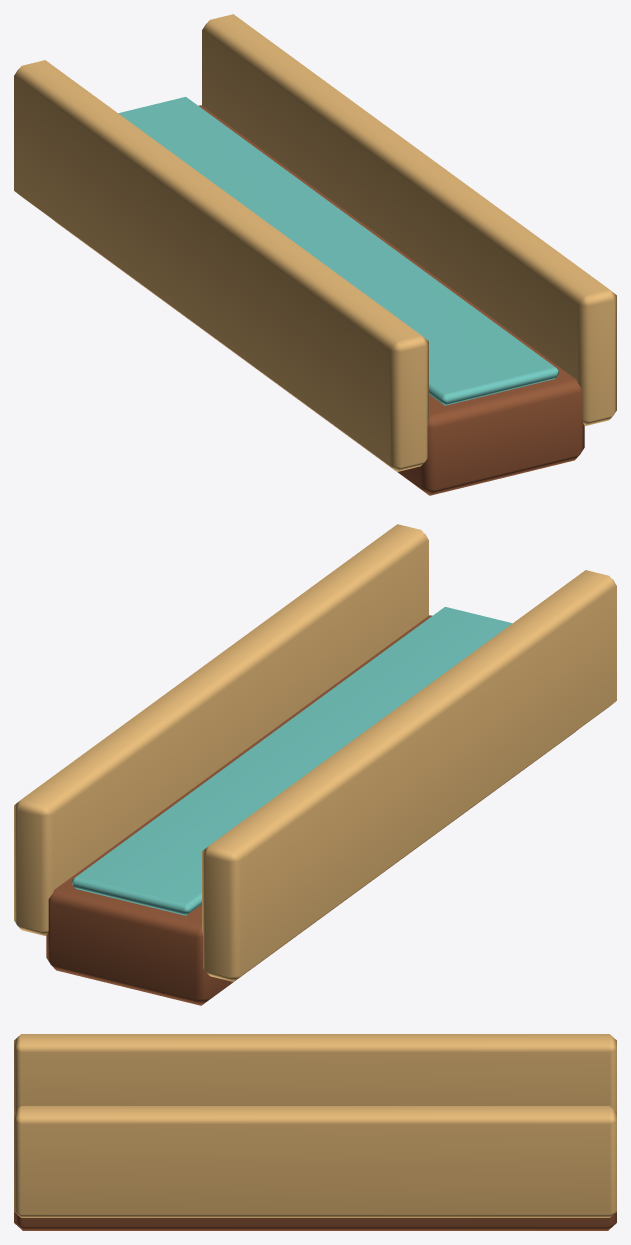
Rendered from channel.glb.
3 renders of one model, top to bottom at view 1: azimuth 30°, elevation 25°; view 2: azimuth 150°, elevation 25°; view 3: azimuth 270°, elevation 25°, orthographic. The views are drawn at different scales.
Visible parts, largest first — view 1: Wall, Wall.001, Water, Trough; view 2: Wall, Wall.001, Water, Trough; view 3: Wall.001, Wall, Trough.
Part boxes in pixels (left/top/right/bottom): Wall: left=14, top=60, right=428, bottom=471; Wall.001: left=202, top=14, right=616, bottom=425; Water: left=118, top=97, right=558, bottom=405; Trough: left=55, top=105, right=584, bottom=495; Wall: left=202, top=570, right=616, bottom=981; Wall.001: left=14, top=524, right=428, bottom=935; Water: left=72, top=607, right=512, bottom=915; Trough: left=46, top=615, right=575, bottom=1005; Wall.001: left=14, top=1106, right=616, bottom=1217; Wall: left=14, top=1034, right=616, bottom=1111; Trough: left=14, top=1212, right=616, bottom=1230.
Size of the model in its own units: 0.58 by 0.4 by 1.7.
